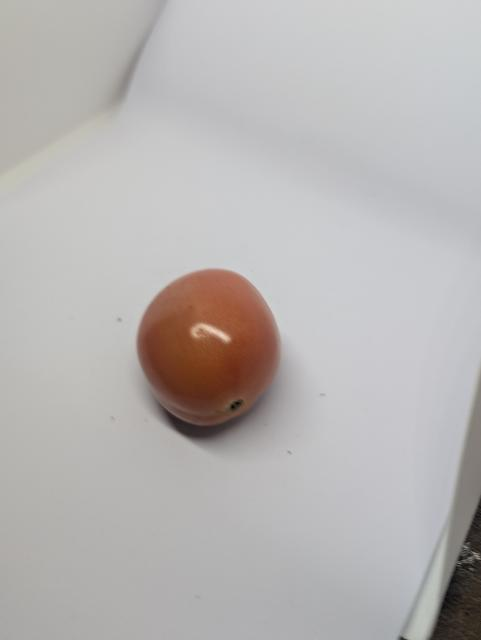red: (131, 264, 286, 435)
